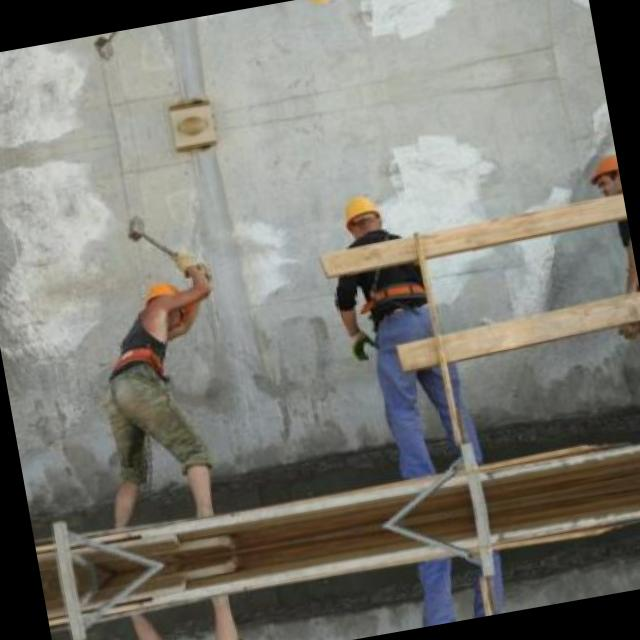helmet: (337, 186, 388, 242), (141, 275, 187, 333), (580, 145, 620, 202), (302, 0, 349, 13)
